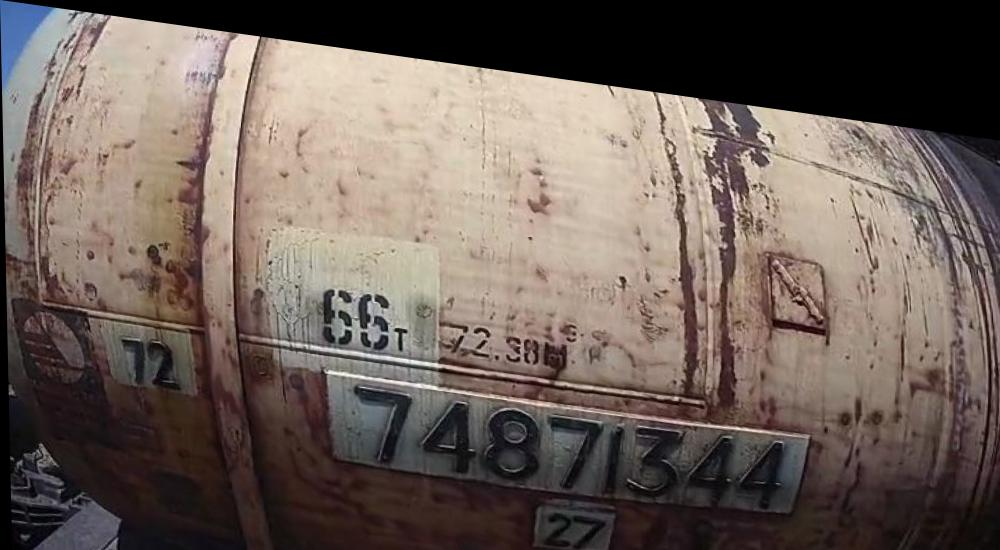Wagon-number: (343, 363, 785, 498)
